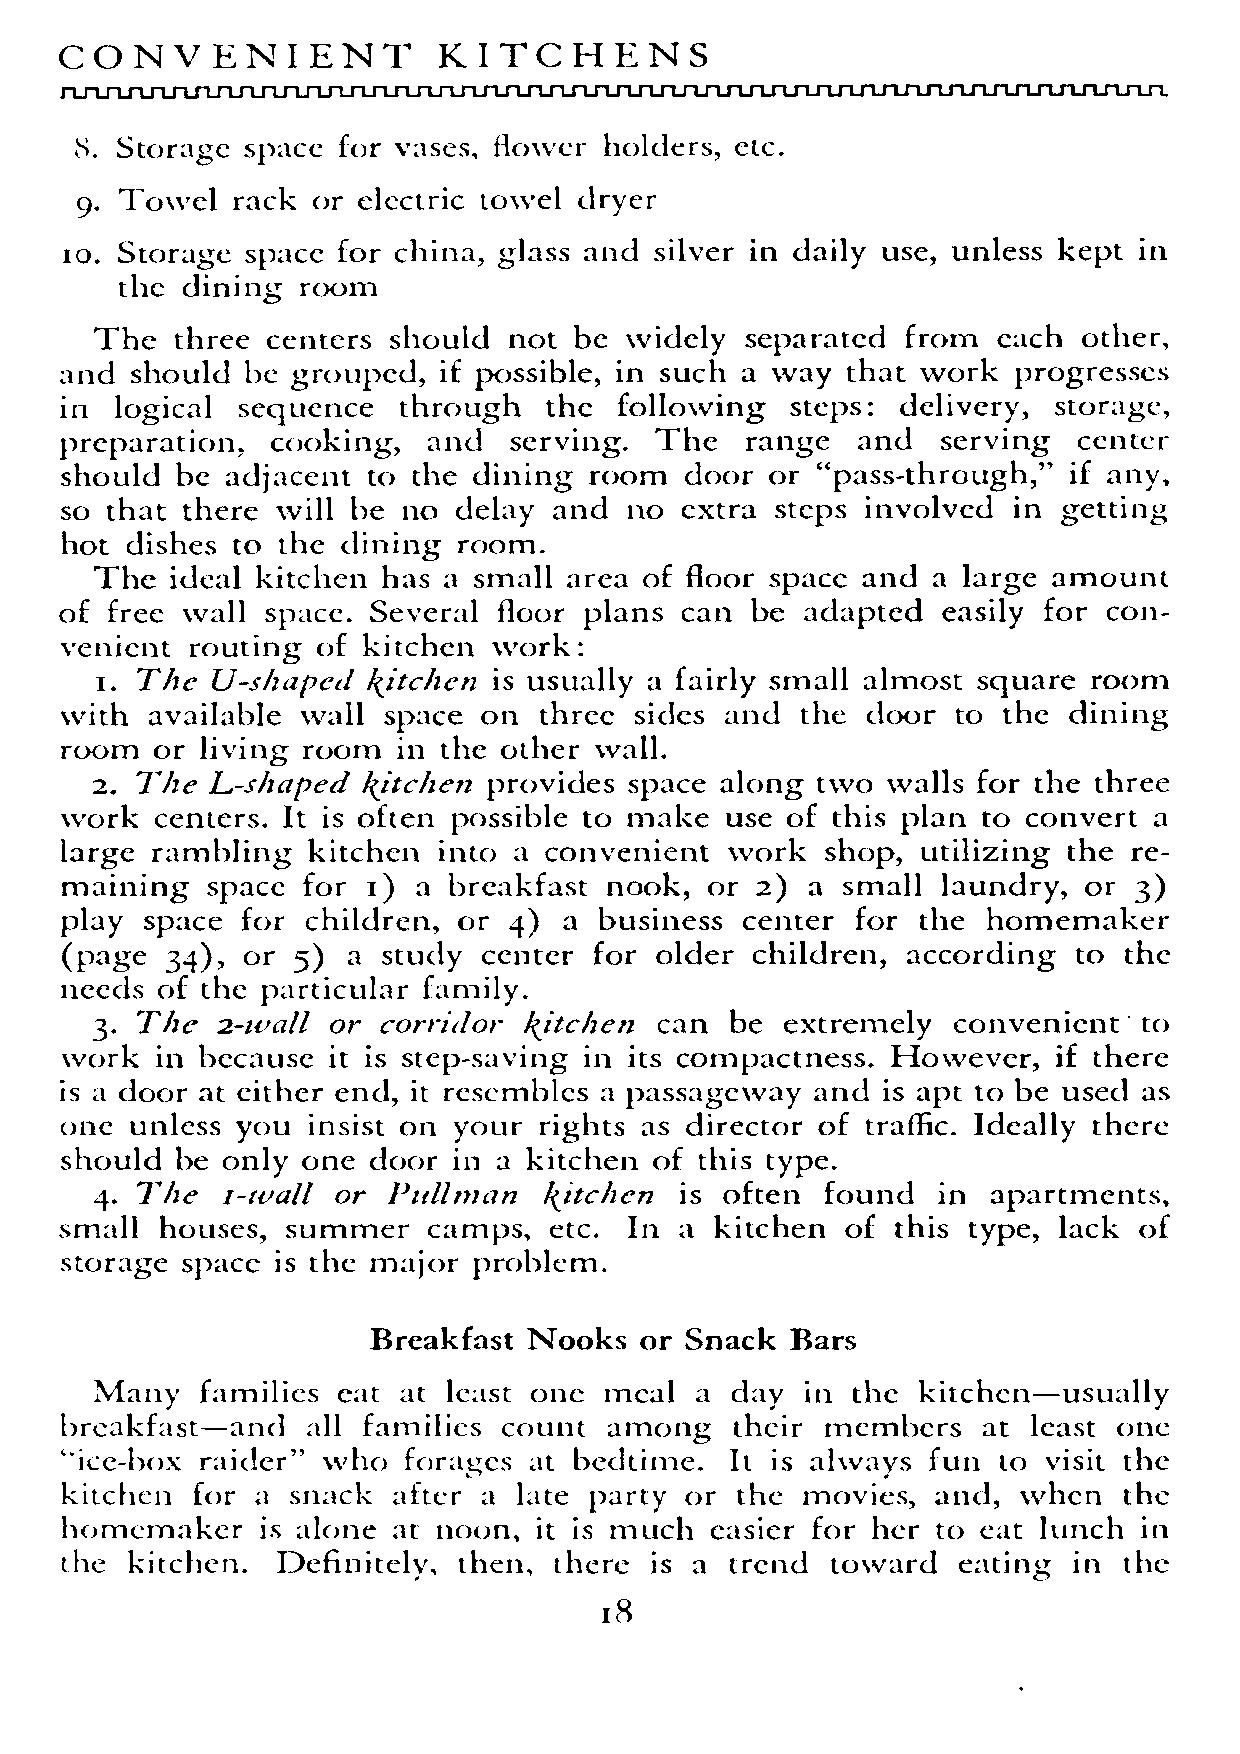chapter: (56, 36, 711, 68), (370, 1318, 860, 1358)
content: (52, 129, 1172, 1283), (55, 1372, 1174, 1580)
content_pagenumber: (599, 1596, 633, 1629)
